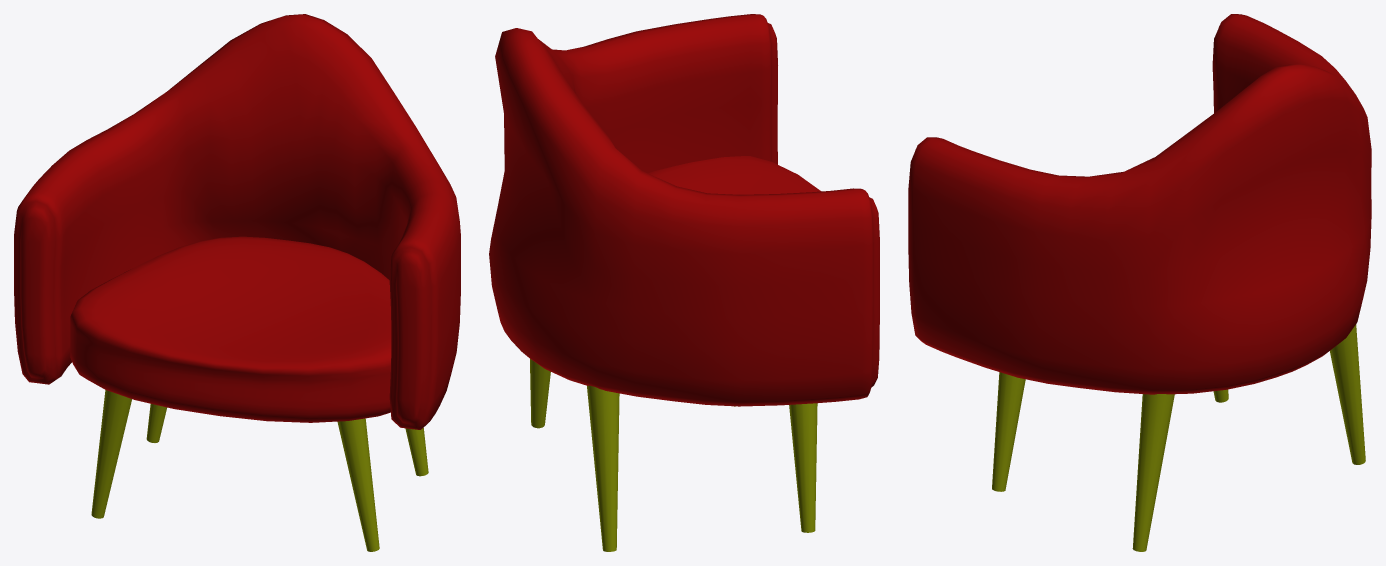
File: Chair.FBX
The picture shows the model from 3 angles, left to right: view 1: azimuth 30°, elevation 25°; view 2: azimuth 150°, elevation 25°; view 3: azimuth 270°, elevation 25°; orthographic projection. The views are drawn at different scales.
Visible parts, largest first — view 1: Box064; view 2: Box064; view 3: Box064.
Part boxes in pixels (bbox=[...]): Box064: bbox=[14, 14, 460, 551]; Box064: bbox=[489, 14, 879, 551]; Box064: bbox=[908, 14, 1371, 551].
Bounding box in the file's own units: 26.55 × 29.05 × 26.77.
